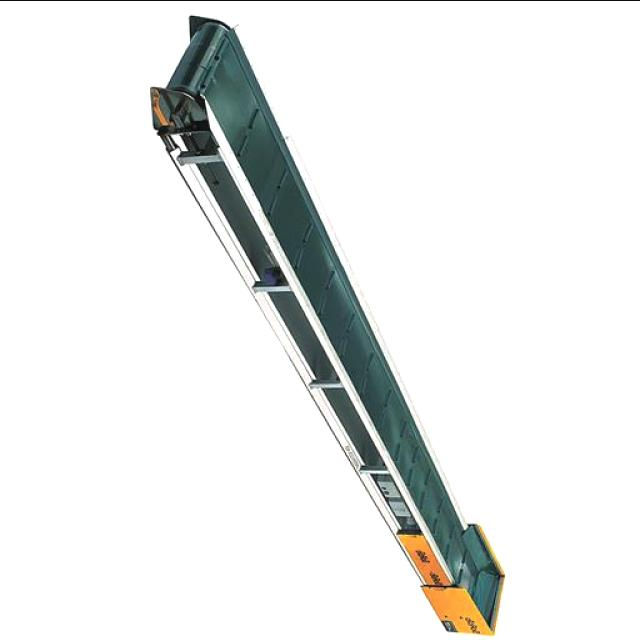conveyor: (156, 20, 495, 634)
